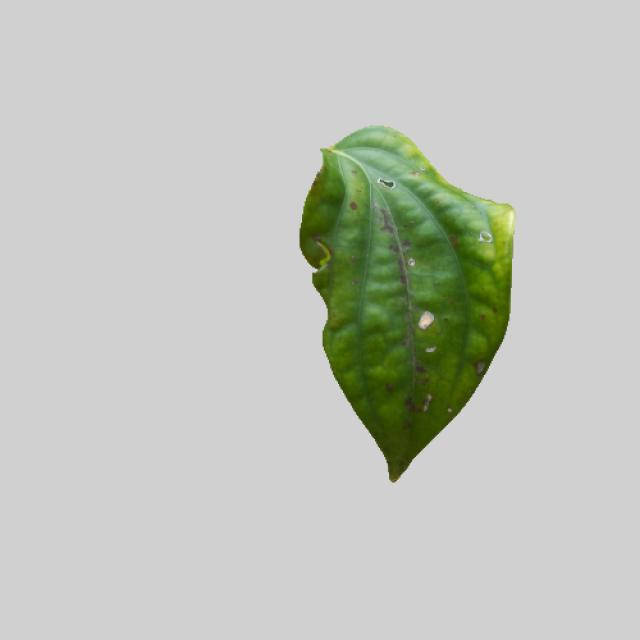yellow-mottle-virus: (298, 124, 516, 479)
